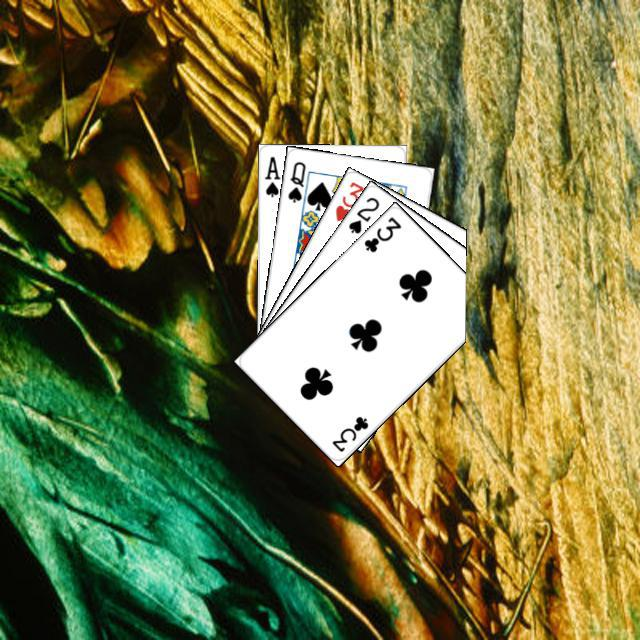2s: (343, 192, 381, 236)
3c: (359, 211, 403, 254), (327, 411, 370, 454)
3h: (330, 177, 366, 223)
As: (260, 152, 282, 198)
Qs: (283, 157, 307, 204)
